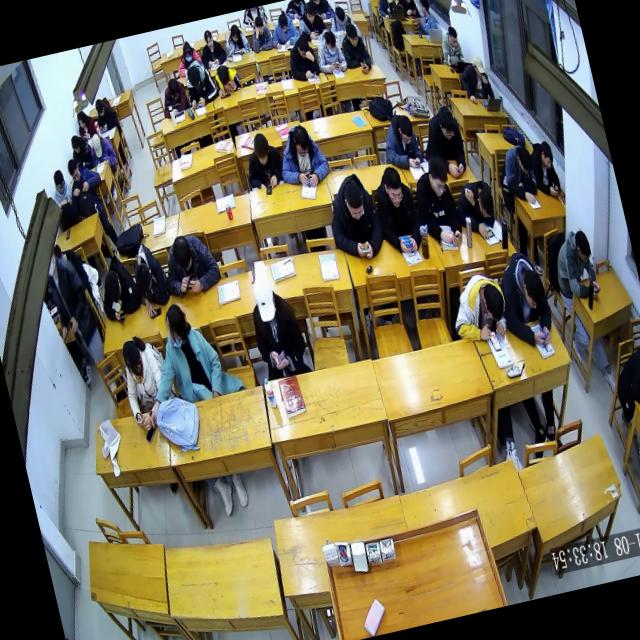bow: (156, 227, 225, 303), (124, 236, 177, 322), (91, 248, 145, 326), (496, 138, 544, 210), (209, 60, 244, 101), (172, 38, 204, 78)
down: (249, 272, 281, 326), (518, 266, 550, 316), (378, 162, 408, 212), (340, 178, 369, 226), (478, 280, 508, 326), (424, 154, 453, 200), (118, 336, 146, 382), (168, 233, 196, 275), (100, 268, 126, 307), (434, 104, 459, 144), (249, 130, 274, 169), (130, 259, 156, 296), (290, 122, 314, 160), (572, 227, 594, 266), (474, 186, 497, 222), (394, 113, 416, 147), (514, 146, 536, 178), (537, 139, 557, 172), (64, 156, 84, 186), (51, 168, 69, 198), (322, 28, 340, 58), (184, 64, 203, 92), (471, 54, 489, 82), (166, 76, 183, 105), (294, 34, 312, 61), (344, 22, 362, 49), (88, 132, 105, 160), (215, 62, 232, 88), (302, 1, 318, 26), (332, 4, 348, 28), (276, 12, 292, 36), (446, 24, 460, 50), (228, 22, 243, 45), (180, 42, 195, 64), (68, 134, 82, 156), (94, 98, 108, 120), (74, 110, 88, 131), (381, 0, 395, 5), (401, 0, 414, 5)
lookup: (252, 14, 267, 37), (202, 28, 216, 52)
sit: (134, 294, 234, 412), (240, 266, 312, 382), (490, 245, 560, 355), (318, 167, 389, 269), (113, 330, 178, 434), (407, 154, 467, 254), (366, 160, 426, 260), (443, 266, 512, 348), (270, 118, 334, 194), (546, 224, 604, 305), (416, 102, 471, 184), (238, 126, 289, 194), (452, 178, 503, 246), (376, 107, 426, 176), (60, 152, 109, 220), (606, 337, 640, 423), (525, 136, 564, 202), (178, 55, 221, 111), (336, 18, 375, 78), (46, 166, 82, 230), (454, 54, 496, 108), (282, 32, 322, 86), (311, 24, 350, 79), (265, 7, 303, 52), (156, 74, 192, 120), (293, 0, 328, 43), (195, 26, 229, 70), (244, 12, 276, 56), (85, 128, 118, 170), (436, 24, 466, 70), (219, 19, 252, 59), (67, 130, 96, 173), (91, 94, 121, 134), (326, 1, 356, 38), (410, 0, 439, 37), (73, 105, 99, 142), (371, 0, 399, 22), (392, 0, 420, 21)
